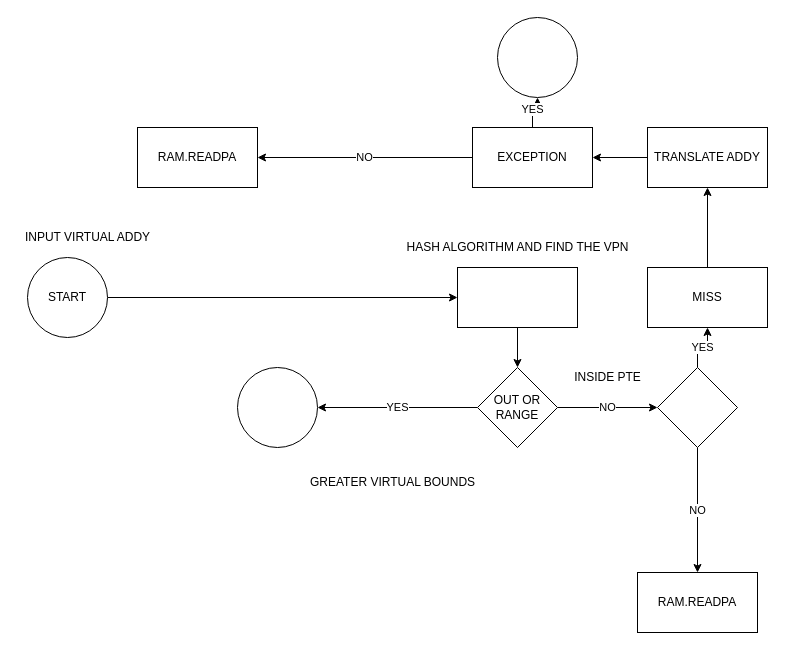
This 785x650 diagram has some shape labels left out. Here are the shapes that lost their labels. From the top down, the centre of each, then its label:
the point at 537,57: ERROR
the point at 517,297: TRANSLATE ADDRESS
the point at 277,407: RETURNS ERROR
the point at 697,407: PAGE FAULT
